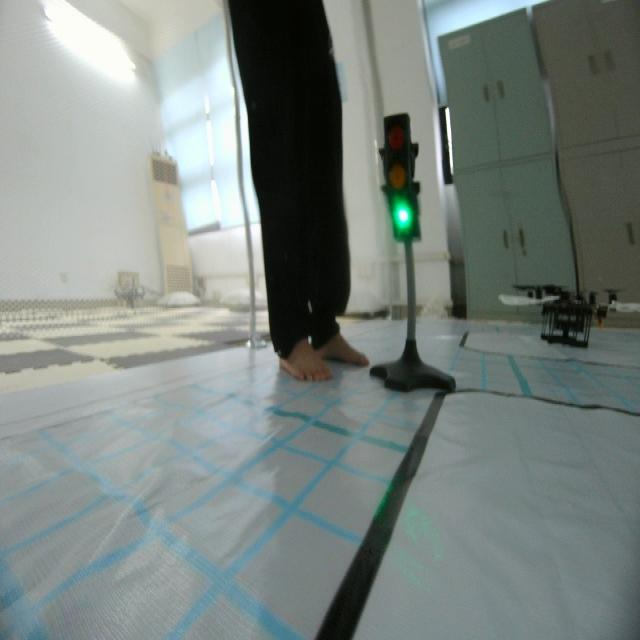green: (377, 104, 425, 241)
